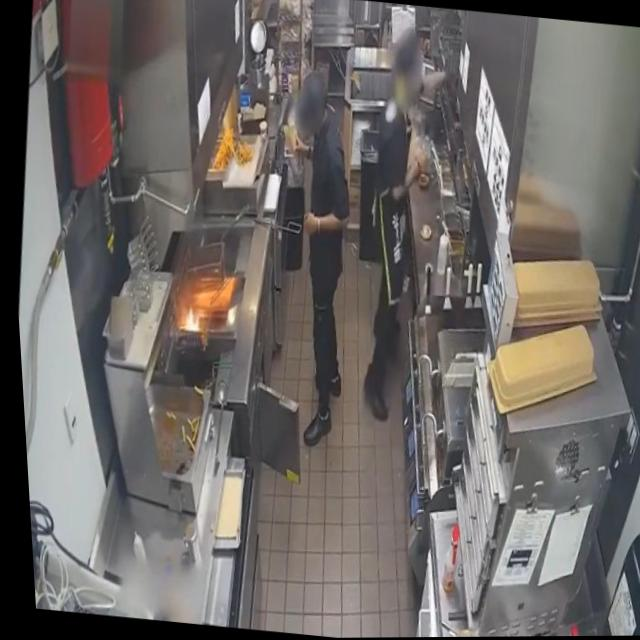fire: (170, 302, 201, 333)
